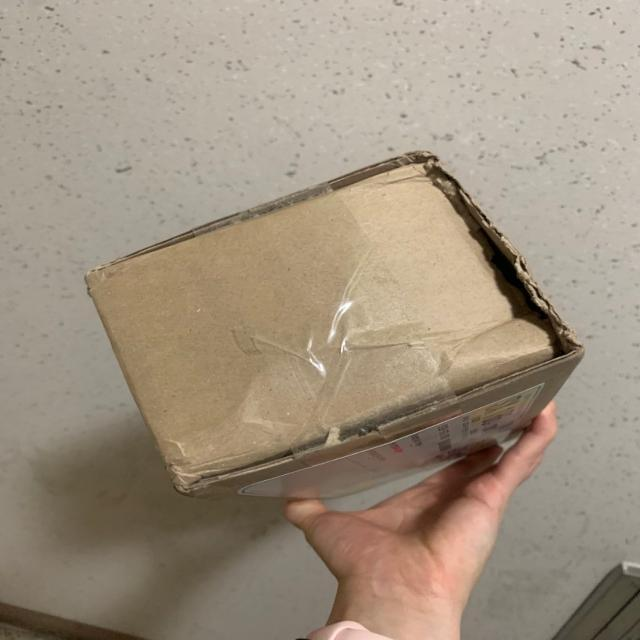box: (83, 155, 584, 505)
crushed: (333, 153, 583, 382)
